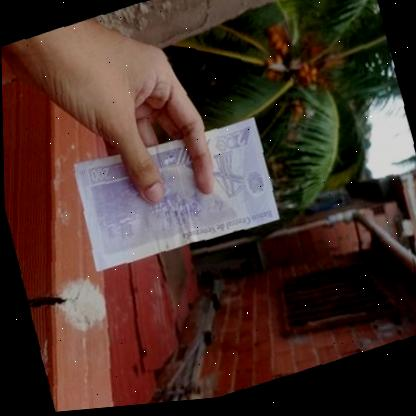two_hundred-back-vef: (65, 106, 284, 286)
